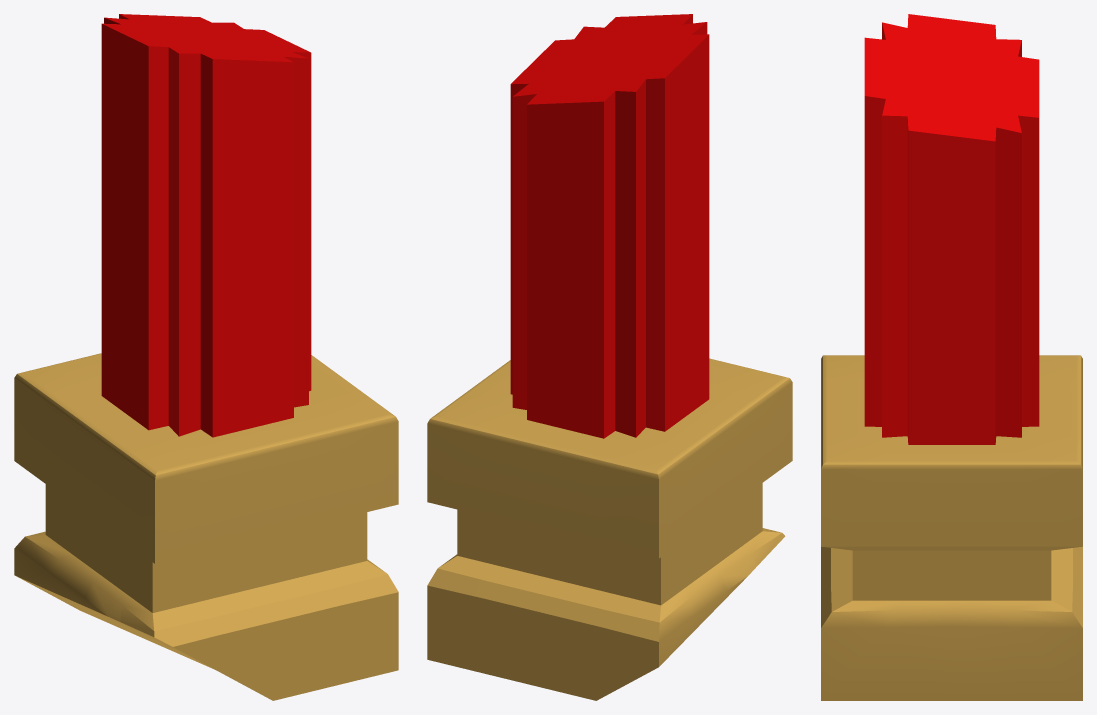
File: columna rota 1.fbx
3 views of the same model, side by side, from view 1: azimuth 30°, elevation 25°; view 2: azimuth 150°, elevation 25°; view 3: azimuth 270°, elevation 25° (orthographic). The views are drawn at different scales.
Visible parts, largest first — view 1: columna_rota_1; view 2: columna_rota_1; view 3: columna_rota_1.
Boxes of the visible parts, box(x1,y1,x2,y2) form: columna_rota_1: box(14, 14, 398, 700); columna_rota_1: box(427, 14, 792, 700); columna_rota_1: box(821, 14, 1082, 700).
Bounding box in the file's own units: 0.9172 × 2.3 × 0.9172.
